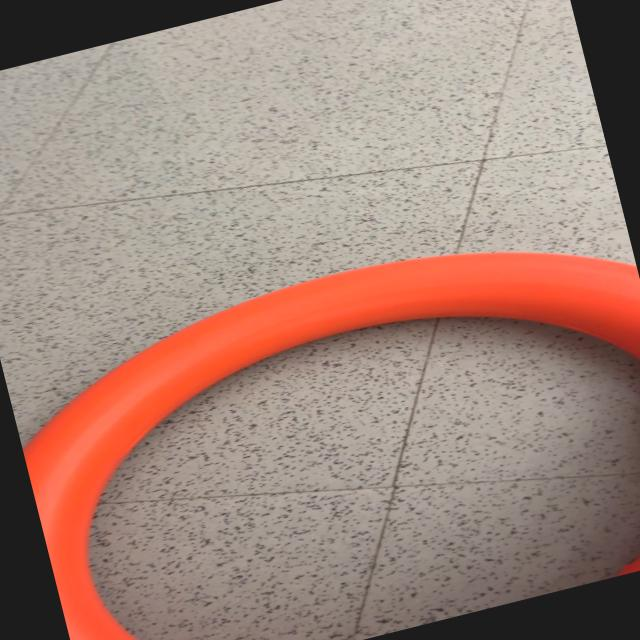note: (1, 201, 640, 640)
